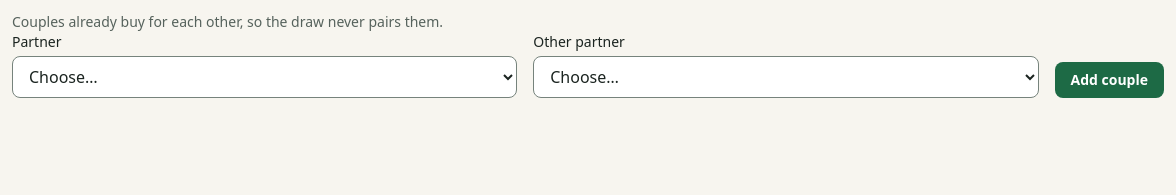
Test: CoupleList › warns when the couples could not be saved
The image size is (1176, 195).
Select "Alice" in the dropdown labelled "Partner" at [265, 77], box x1=12 y1=56 x2=517 y2=98
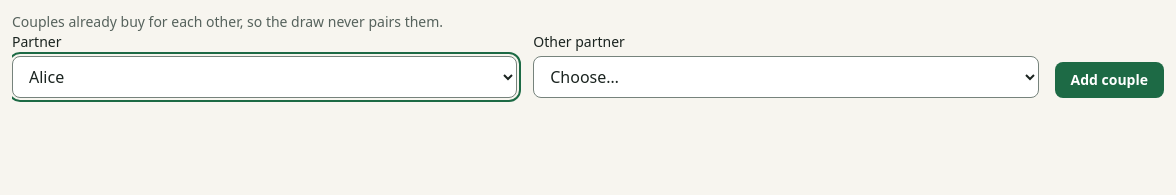
Select "Bob" in the dropdown labelled "Other partner" at [786, 77], box x1=533 y1=56 x2=1039 y2=98
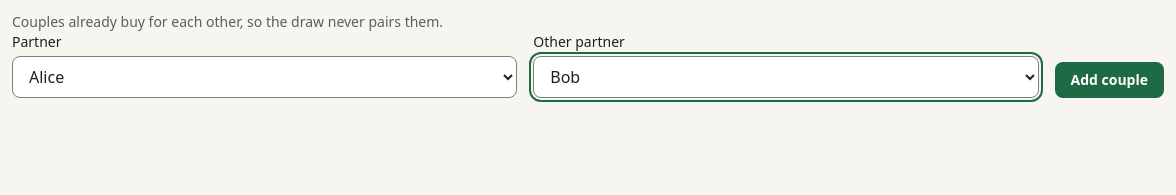
Click the button "Add couple".
click(1109, 80)  # box x1=1054 y1=62 x2=1164 y2=98
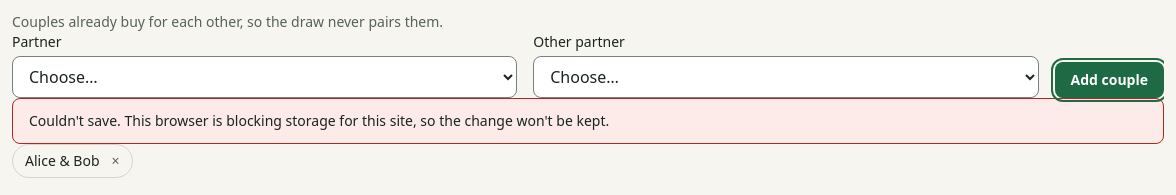
Result: the message shows "Couldn't save" at x1=29 y1=111 x2=609 y2=130
